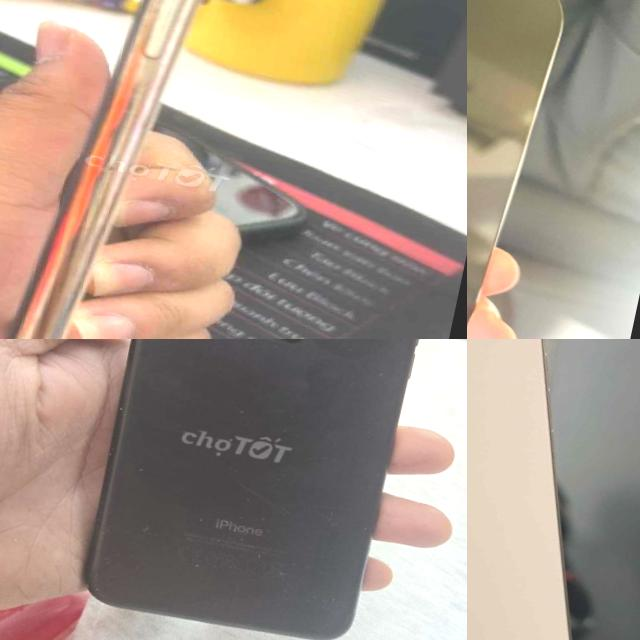scratch: (224, 472, 378, 534), (240, 547, 352, 617), (186, 500, 271, 548), (357, 355, 389, 380), (182, 555, 204, 571), (234, 399, 253, 414), (274, 422, 294, 436), (138, 513, 150, 536), (371, 461, 387, 478), (268, 340, 284, 352), (130, 464, 145, 476), (361, 427, 374, 437), (114, 402, 125, 413)
